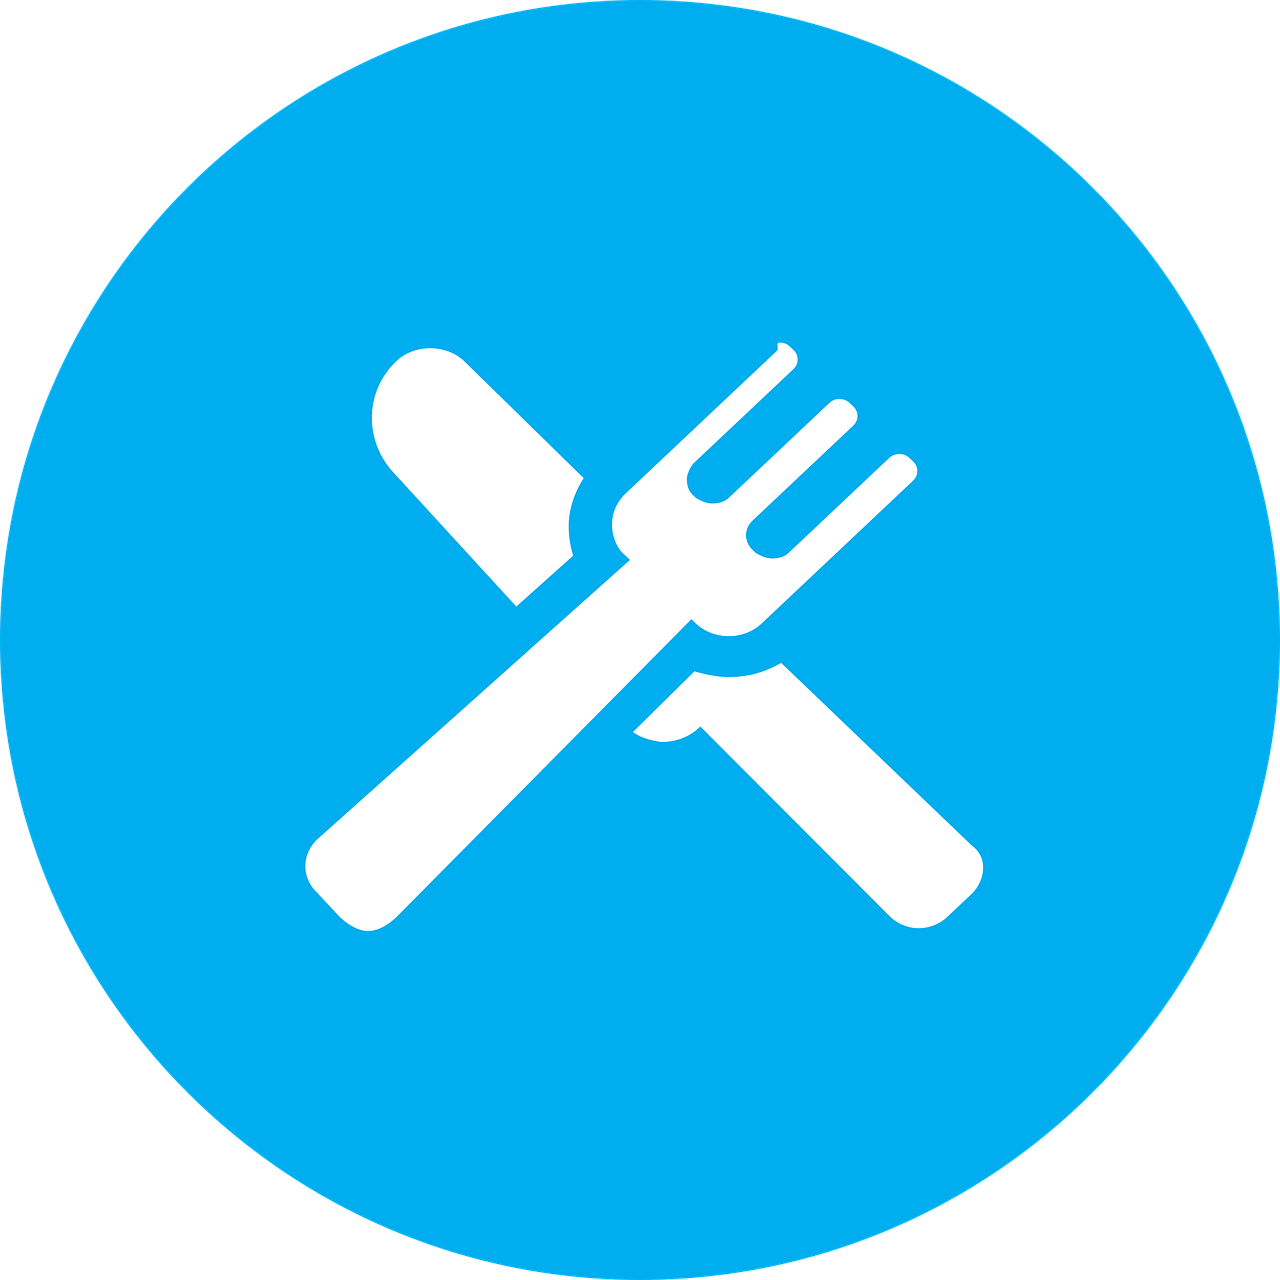knife: (349, 334, 983, 933)
